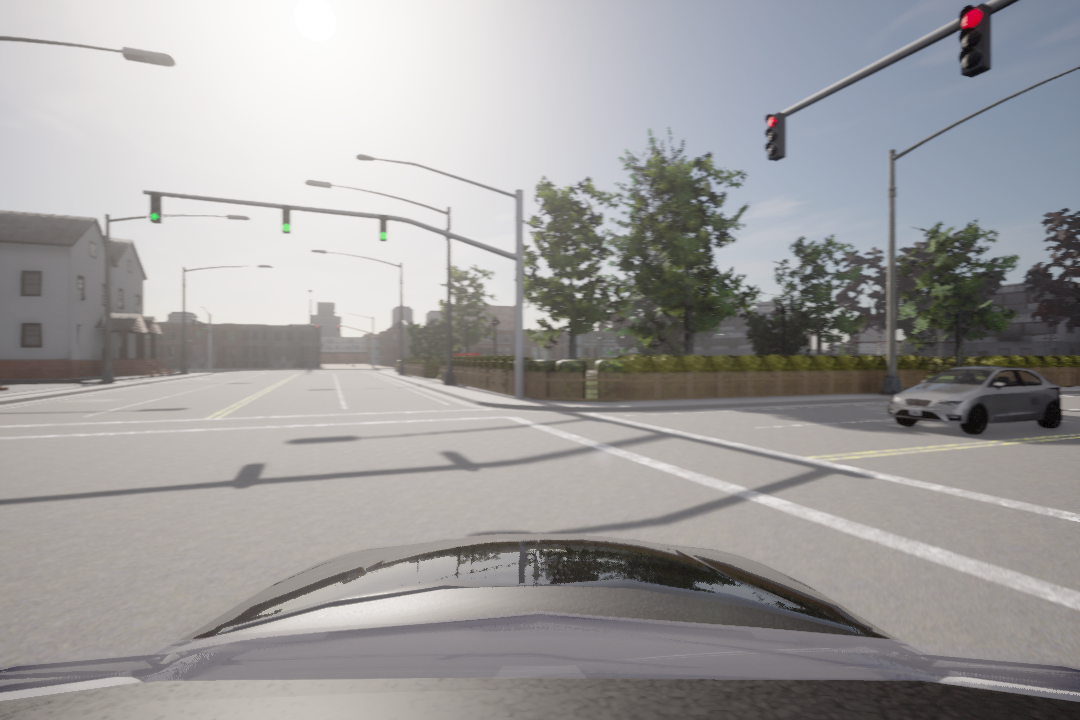TrafficLight: (951, 5, 994, 76), (764, 110, 790, 155), (144, 191, 162, 221), (371, 217, 388, 242), (280, 207, 294, 234)
